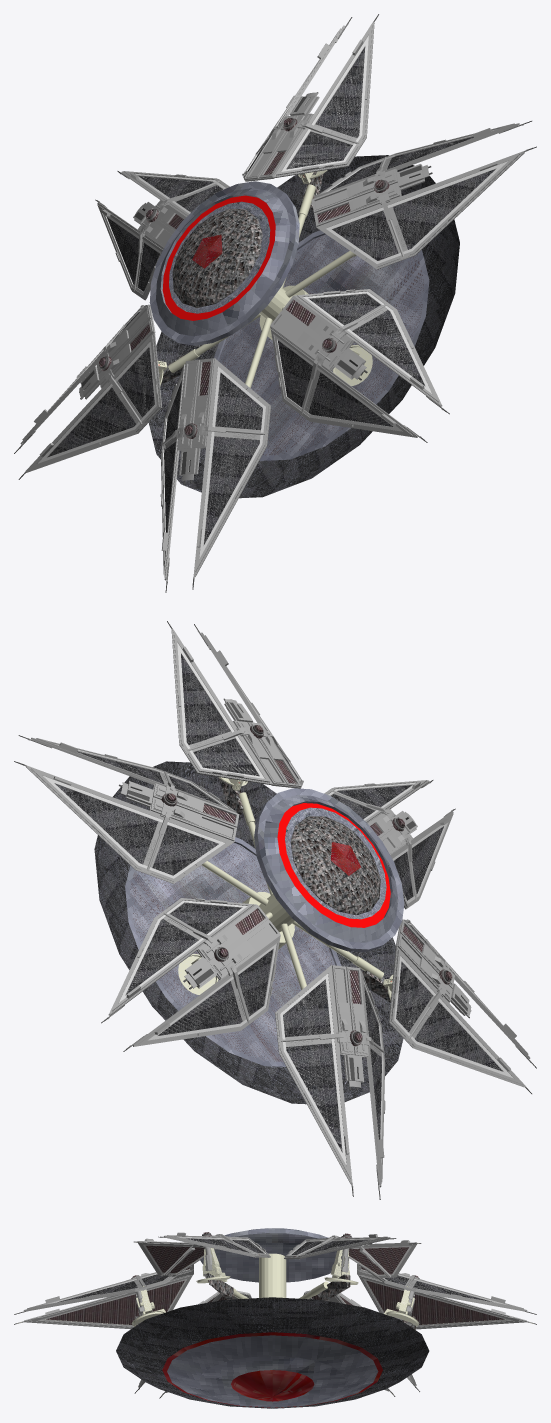
The model's file is Valhalla_Station.fbx.
The picture shows the model from 3 angles, top to bottom: view 1: azimuth 30°, elevation 25°; view 2: azimuth 150°, elevation 25°; view 3: azimuth 270°, elevation 25°; orthographic projection. The views are drawn at different scales.
Parts seen in each view (by area): view 1: ID206, ID126, ID5132, ID5118, ID5097, ID3365, ID2937, ID4669, ID4131, ID5126, ID1783, ID1399 (+36 smaller); view 2: ID126, ID206, ID5132, ID5118, ID5097, ID4811, ID5083, ID3933, ID4527, ID5126, ID2841, ID2021 (+34 smaller); view 3: ID126, ID93, ID5097, ID1391, ID2215, Componente_1, ID52, SketchUp, ID3523, ID4357, ID1161, ID582 (+20 smaller).
Boxes of the visible parts, bbox=[...] form: ID206: bbox=[218, 234, 424, 455]; ID126: bbox=[148, 155, 459, 498]; ID5132: bbox=[172, 209, 262, 307]; ID5118: bbox=[156, 188, 290, 336]; ID5097: bbox=[149, 181, 299, 345]; ID3365: bbox=[204, 436, 259, 544]; ID2937: bbox=[393, 169, 495, 249]; ID4669: bbox=[48, 388, 136, 456]; ID4131: bbox=[315, 47, 365, 137]; ID5126: bbox=[162, 195, 275, 320]; ID1783: bbox=[308, 372, 392, 426]; ID1399: bbox=[352, 310, 424, 385]; ID126: bbox=[94, 761, 403, 1104]; ID206: bbox=[130, 843, 335, 1061]; ID5132: bbox=[290, 816, 380, 915]; ID5118: bbox=[263, 795, 398, 942]; ID5097: bbox=[254, 788, 404, 952]; ID4811: bbox=[55, 783, 157, 864]; ID5083: bbox=[286, 1043, 342, 1151]; ID3933: bbox=[415, 1002, 502, 1071]; ID4527: bbox=[181, 654, 230, 744]; ID5126: bbox=[277, 803, 390, 927]; ID2841: bbox=[158, 981, 242, 1035]; ID2021: bbox=[126, 919, 198, 994]; ID126: bbox=[116, 1297, 429, 1408]; ID93: bbox=[167, 1335, 378, 1407]; ID5097: bbox=[200, 1229, 336, 1282]; ID1391: bbox=[46, 1280, 184, 1324]; ID2215: bbox=[366, 1280, 504, 1324]; Componente_1: bbox=[231, 1370, 314, 1401]; ID52: bbox=[162, 1332, 382, 1407]; SketchUp: bbox=[259, 1253, 286, 1297]; ID3523: bbox=[146, 1245, 204, 1272]; ID4357: bbox=[349, 1247, 408, 1274]; ID1161: bbox=[358, 1275, 526, 1329]; ID582: bbox=[24, 1275, 192, 1329].
Size of the model in its own units: 225 by 353 by 225.
Materials: 16 (8 with a texture image).
